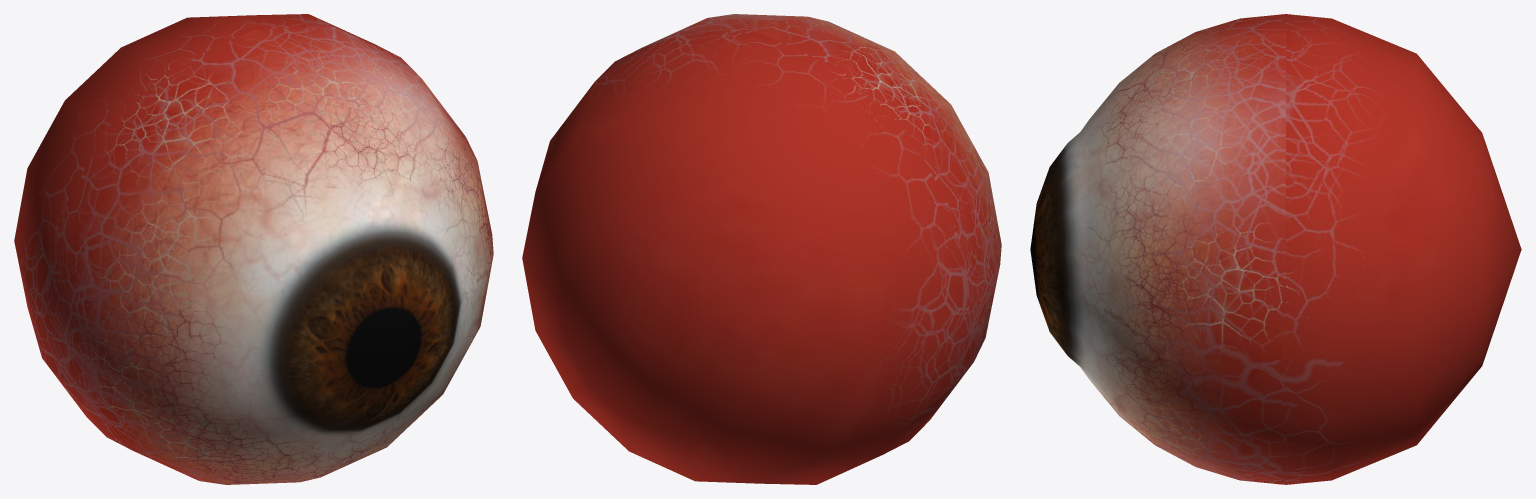
The model's file is Eye (brown).fbx.
The picture shows the model from 3 angles, left to right: view 1: azimuth 30°, elevation 25°; view 2: azimuth 150°, elevation 25°; view 3: azimuth 270°, elevation 25°; orthographic projection.
Visible parts, largest first — view 1: polySurface7; view 2: polySurface7; view 3: polySurface7.
Boxes of the visible parts, x1,y1,x2,y2 form: polySurface7: (14,14,493,484); polySurface7: (522,14,1001,484); polySurface7: (1030,14,1521,484).
Size of the model in its own units: 0.1238 by 0.1238 by 0.129.
2 materials, 2 textured.
